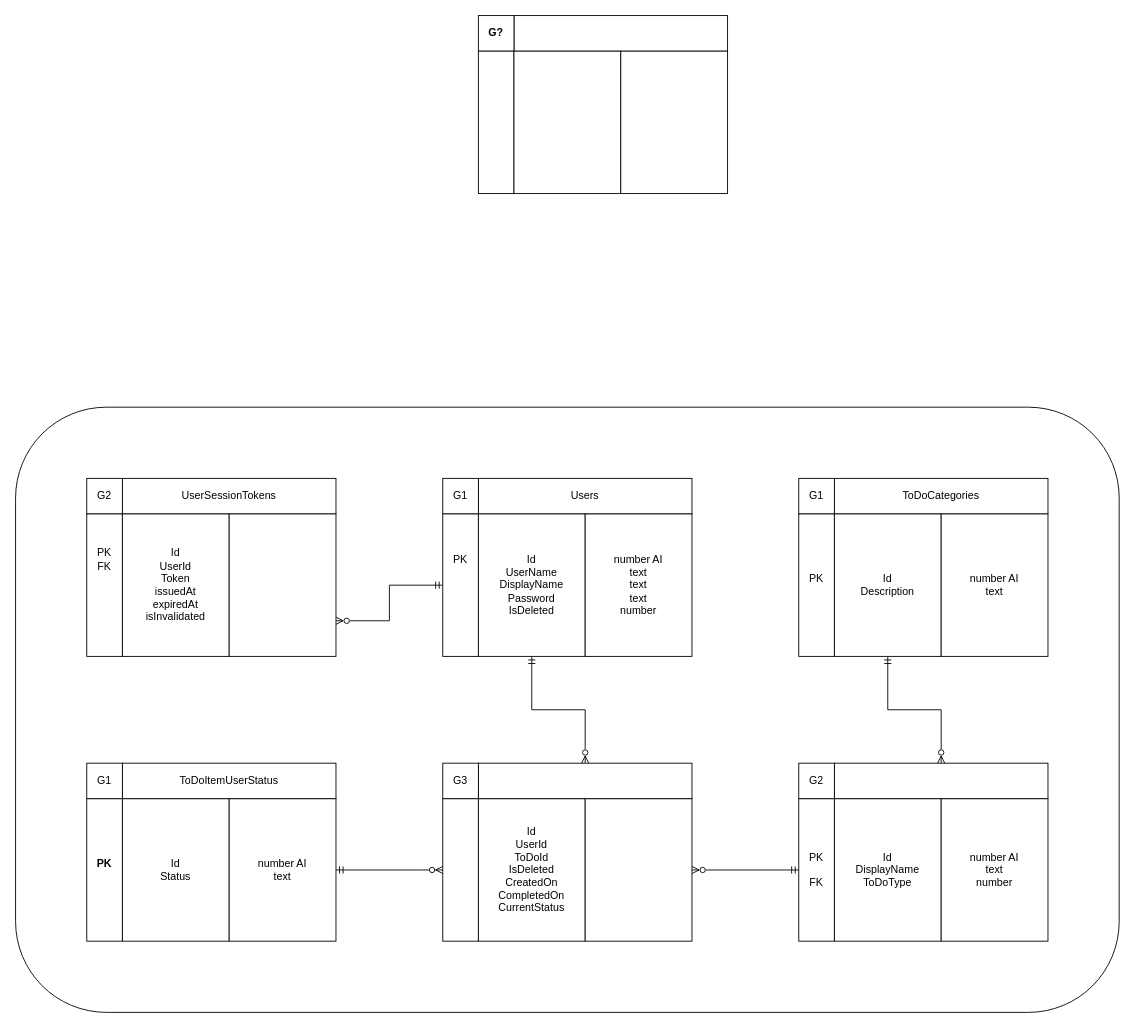
Image size: 1135x1028. Some labels were removed from this diagram. The centre of each missing label's shape, as x and y in pixels:
"number AI number number number date date number" belongs at (x=638, y=869).
"number AI number text number number number" belongs at (x=282, y=584).
"PK FK FK FK" belongs at (x=460, y=869).
"ToDoItems" belongs at (x=940, y=780).
"UserToDoItems" belongs at (x=584, y=780).
